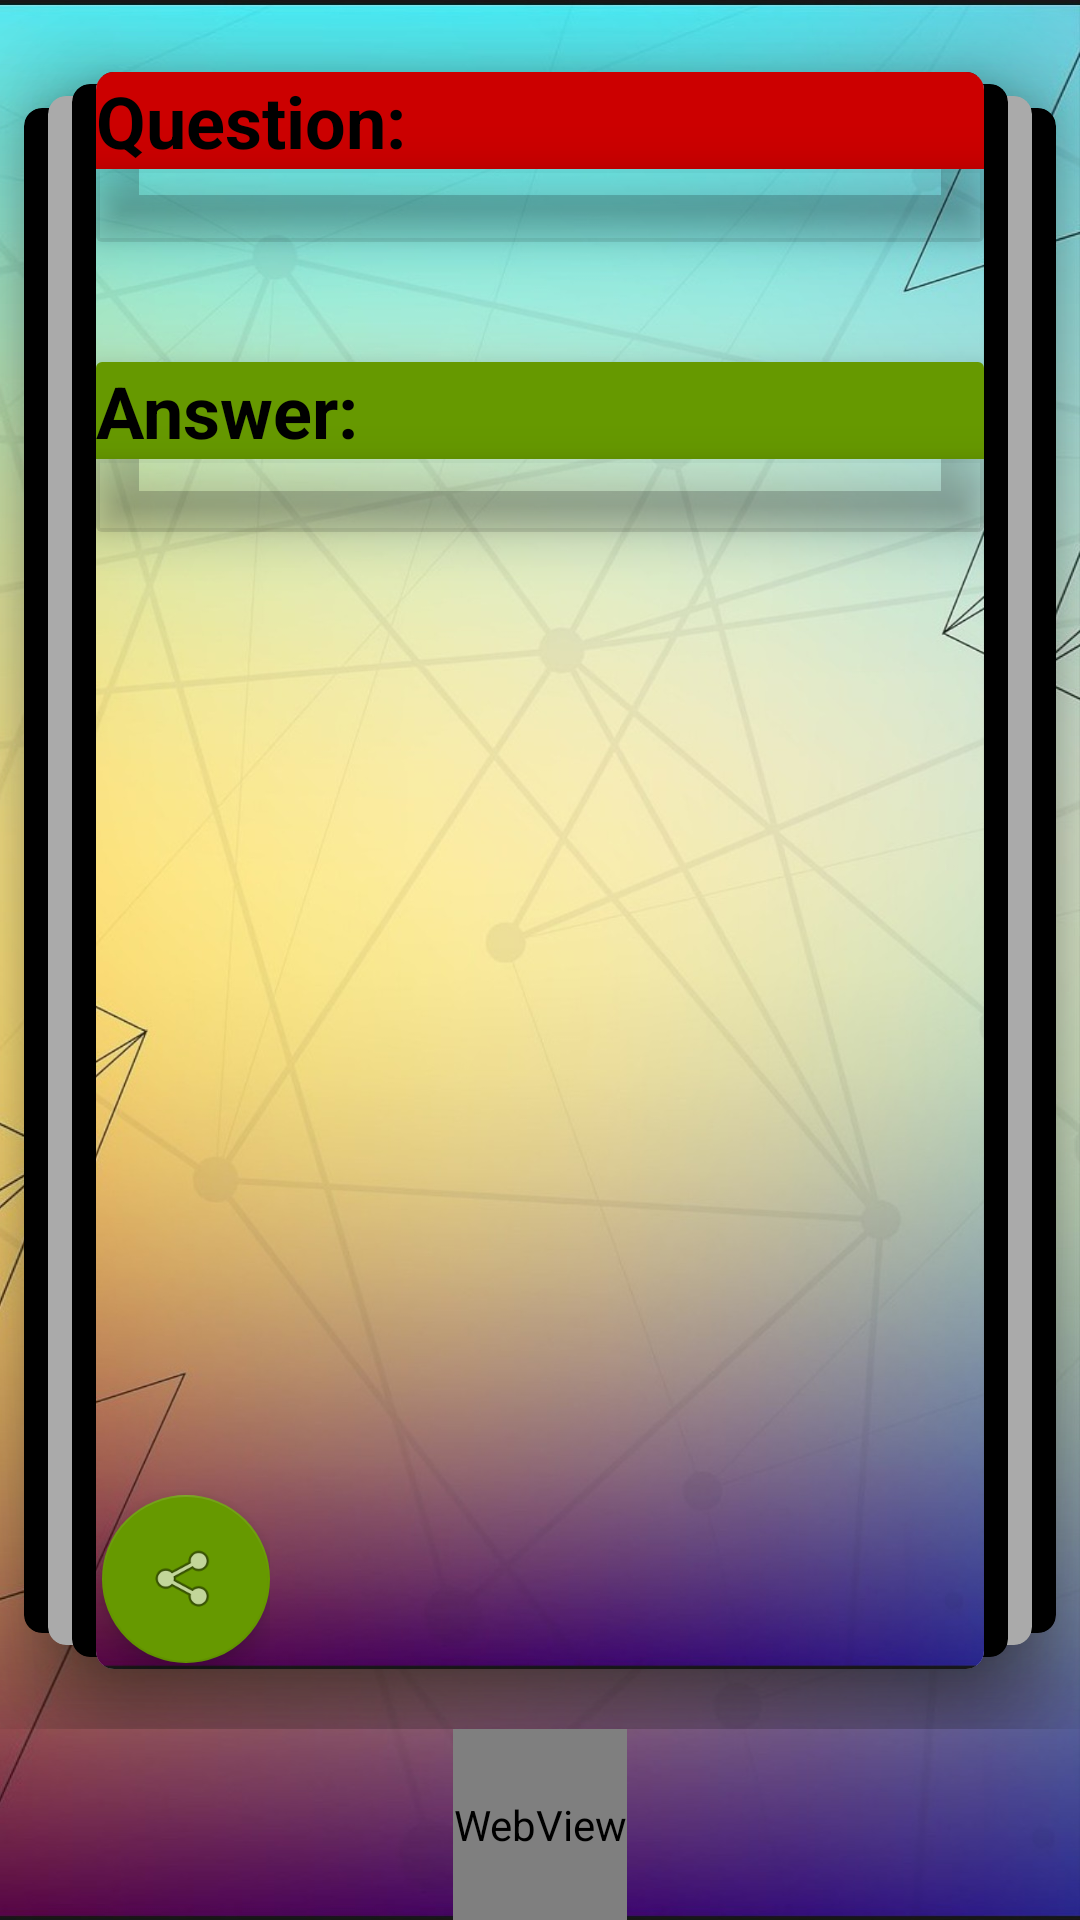

Icons on this 1080w x 1920h Android screen, each with the point to tap as [x,y]:
share: [186,1579]
